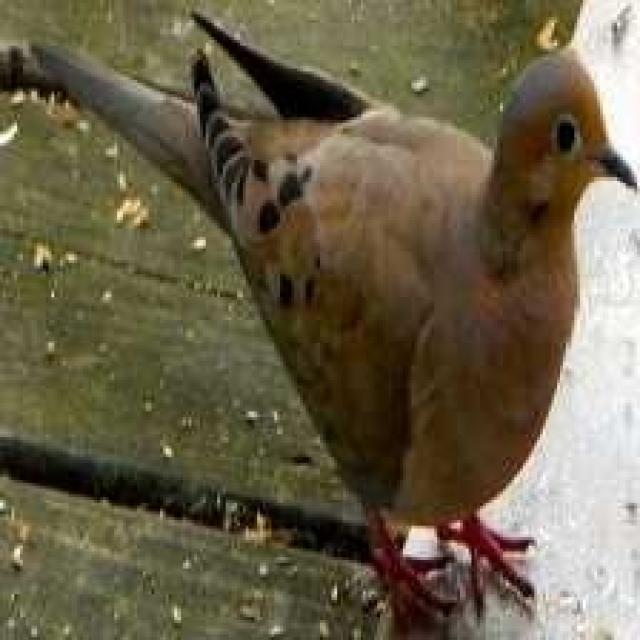dove: (17, 11, 633, 621)
